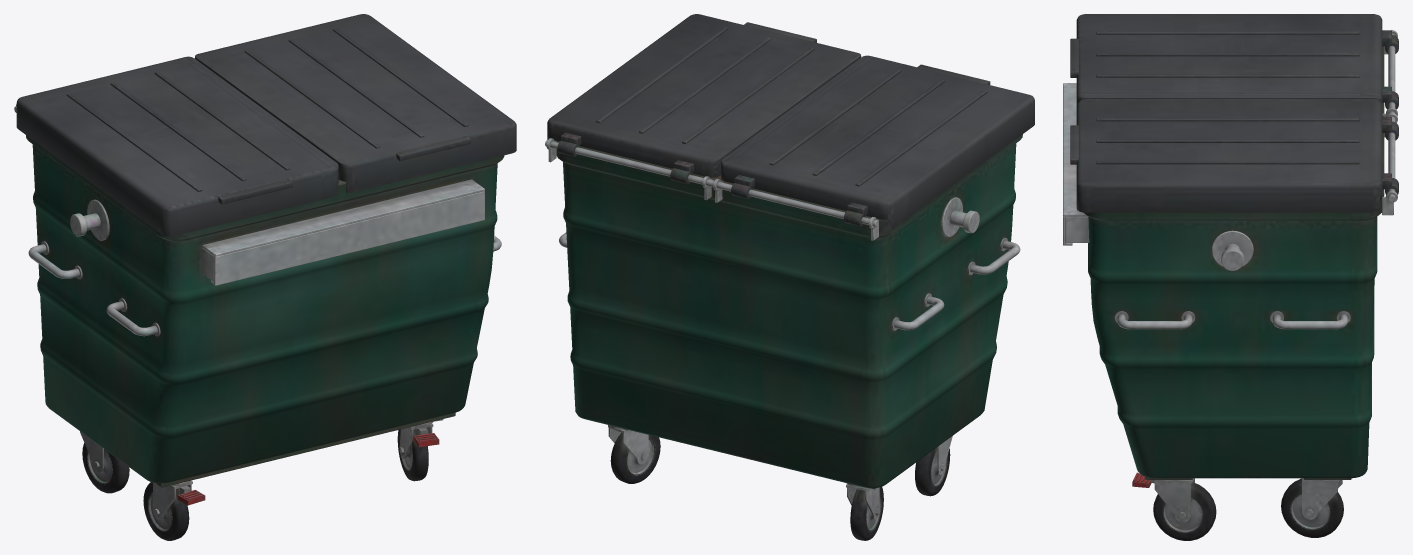
The model's file is g3-dumpster.glb.
The picture shows the model from 3 angles, left to right: view 1: azimuth 30°, elevation 25°; view 2: azimuth 150°, elevation 25°; view 3: azimuth 270°, elevation 25°; orthographic projection. The views are drawn at different scales.
Parts seen in each view (by area): view 1: dumpster_body; view 2: dumpster_body; view 3: dumpster_body.
Boxes of the visible parts, x1,y1,x2,y2 form: dumpster_body: (14,14,516,540); dumpster_body: (545,14,1034,540); dumpster_body: (1063,14,1398,540).
Bounding box in the file's own units: 1.38 × 1.33 × 1.06.
Materials: 1 (1 with a texture image).
